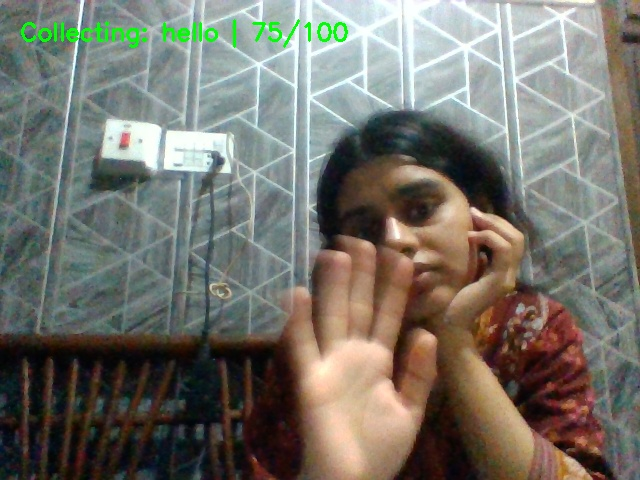hello: (273, 230, 444, 479)
